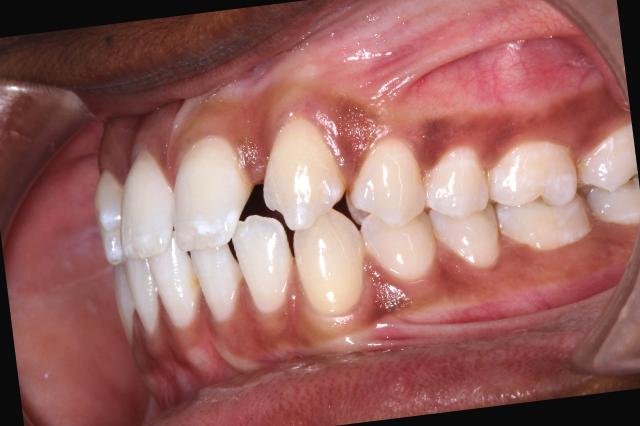canine class II 3/4: (251, 98, 445, 324)
molar class II 3/4: (482, 128, 600, 262)
